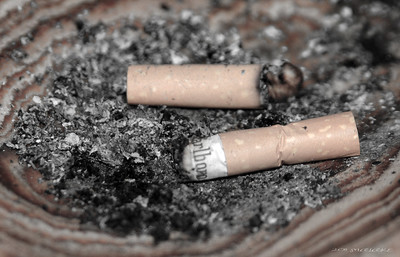cigarette: (168, 111, 363, 183), (122, 60, 305, 106)
